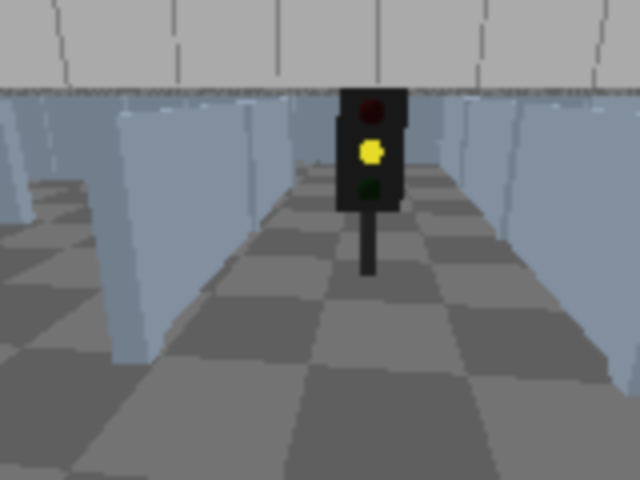traffic_light: (336, 77, 409, 285)
